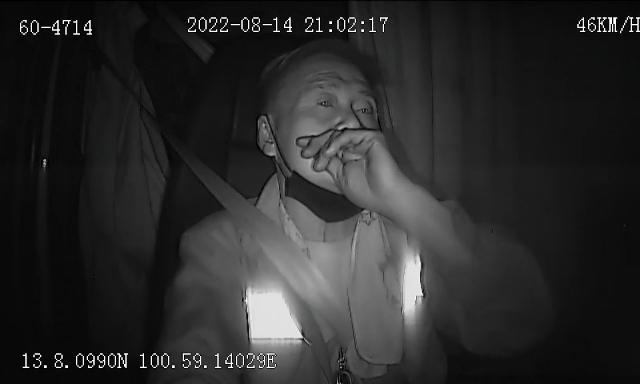SafeDriving: (351, 94, 378, 116)
Seatbelt: (175, 148, 353, 358)
